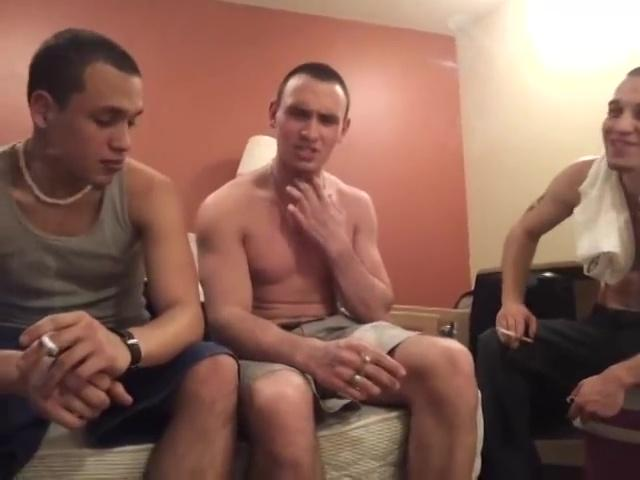cigarette: (36, 330, 61, 358), (496, 328, 536, 345)
